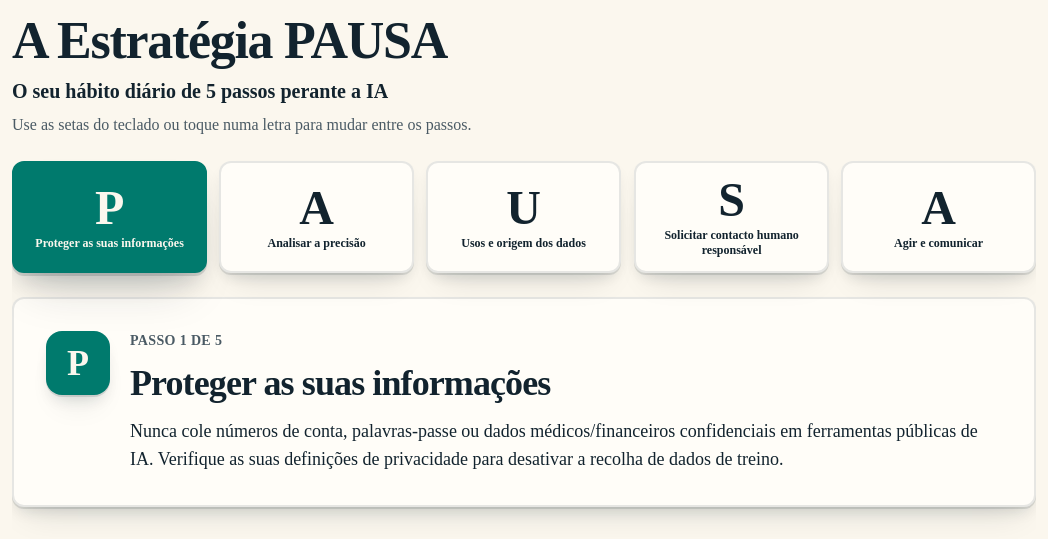
it: PAUSE Strategy in pt-PT › shows every step's title and full text when chosen
Click the tab "P Proteger as suas informações" at (110, 217), box [12,161,207,273]
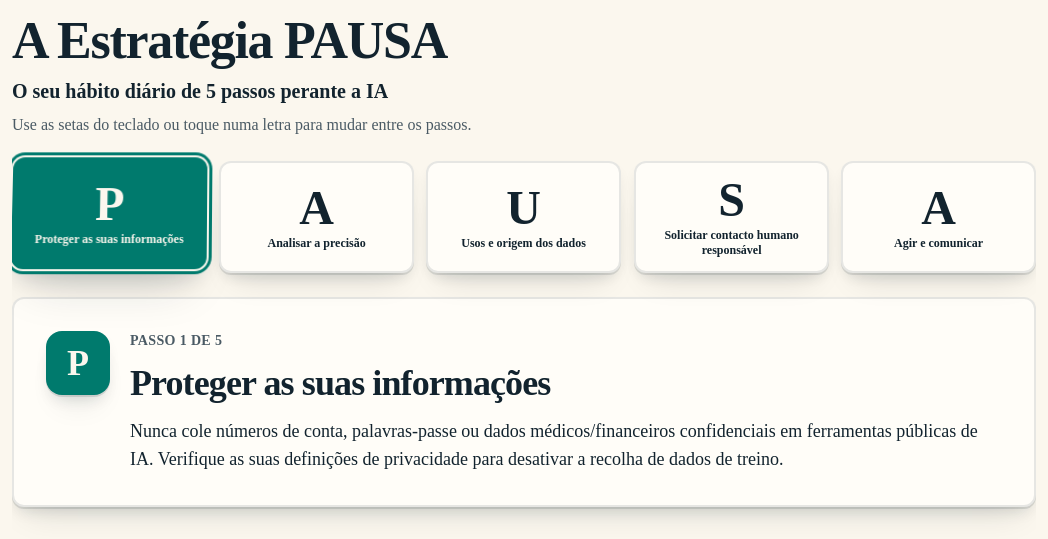
Expected: the heading "Proteger as suas informações" is shown, [130,363,550,403]
Expected: the text "Nunca cole números de conta, palavras-passe ou dados médicos/financeiros confidenciais em ferramentas públicas de IA. Ve" is shown, [130,421,978,469]
Click the tab "A Analisar a precisão" at (317, 217), box [219,161,414,273]
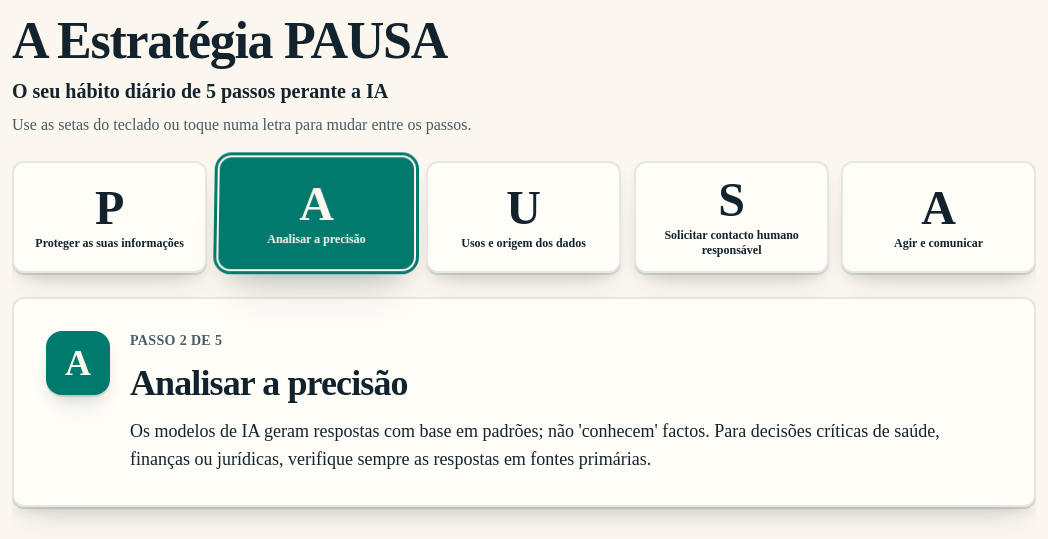
Now the heading "Analisar a precisão" is shown, box [130,363,408,403]
Now the text "Os modelos de IA geram respostas com base em padrões; não 'conhecem' factos. Para decisões críticas de saúde, finanças o" is shown, box [130,421,940,469]
Click the tab "U Usos e origem dos dados" at (524, 217), box [426,161,622,273]
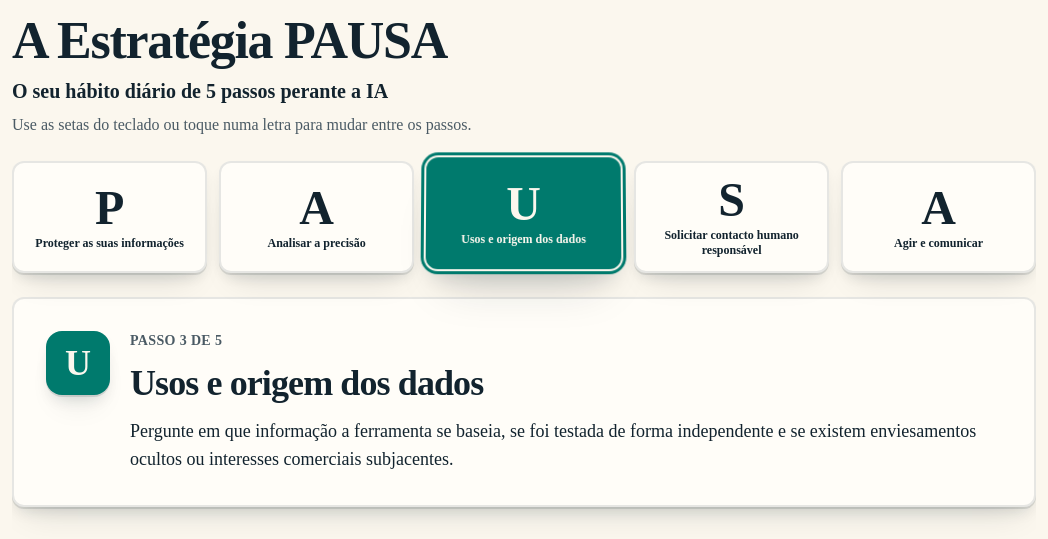
Now the heading "Usos e origem dos dados" is shown, box [130,363,483,403]
Now the text "Pergunte em que informação a ferramenta se baseia, se foi testada de forma independente e se existem enviesamentos ocult" is shown, box [130,421,976,469]
Click the tab "S Solicitar contacto humano responsável" at (731, 217), box [634,161,829,273]
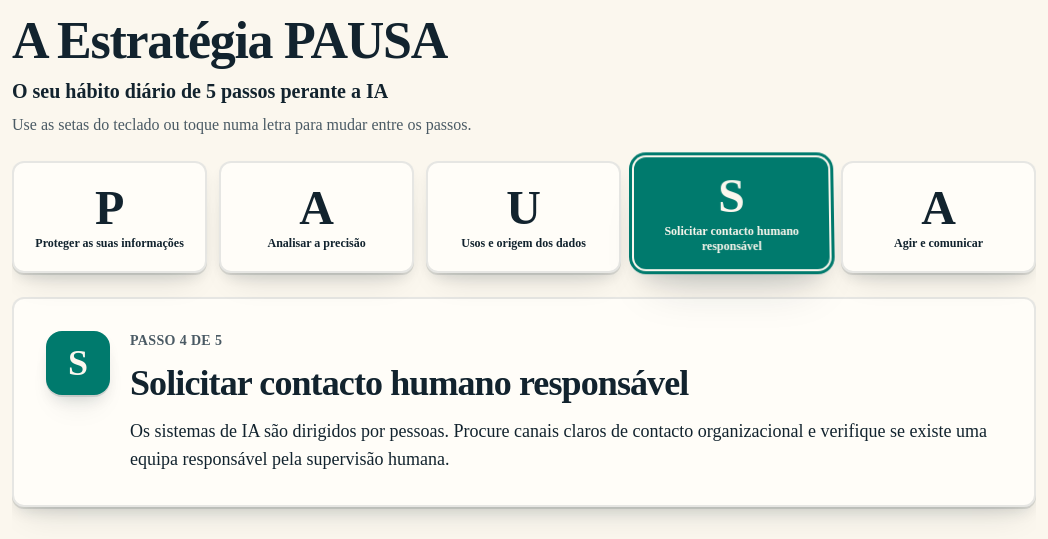
Now the heading "Solicitar contacto humano responsável" is shown, box [130,363,688,403]
Now the text "Os sistemas de IA são dirigidos por pessoas. Procure canais claros de contacto organizacional e verifique se existe uma " is shown, box [130,421,987,469]
Click the tab "A Agir e comunicar" at (938, 217), box [841,161,1036,273]
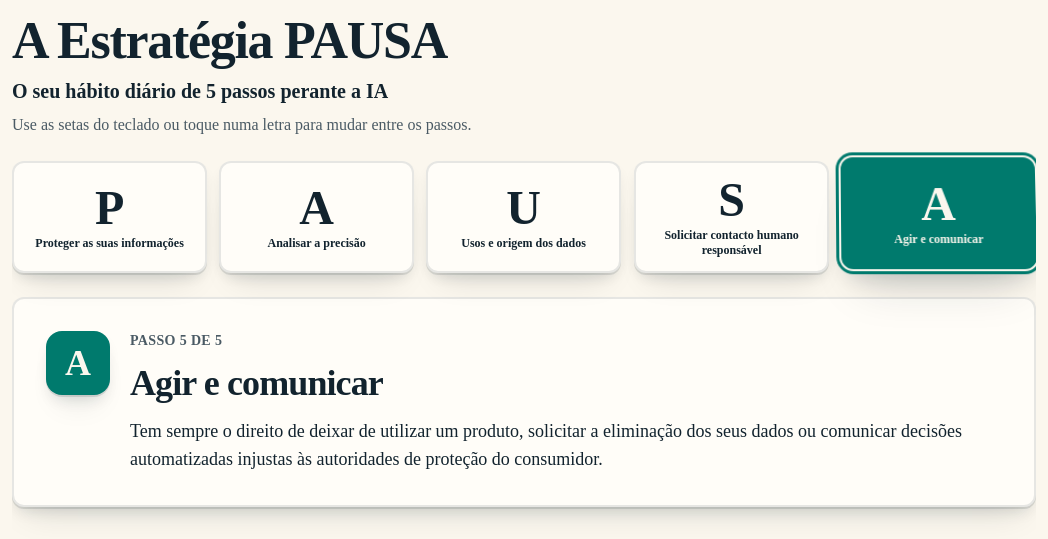
Now the heading "Agir e comunicar" is shown, box [130,363,383,403]
Now the text "Tem sempre o direito de deixar de utilizar um produto, solicitar a eliminação dos seus dados ou comunicar decisões autom" is shown, box [130,421,962,469]
